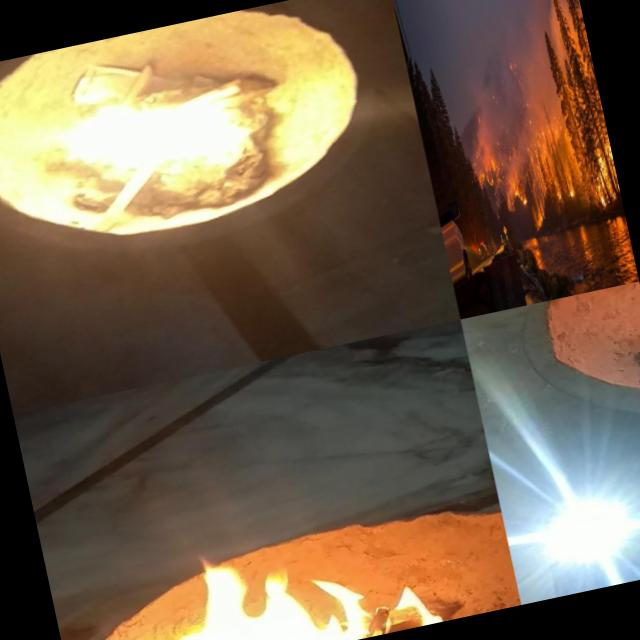fire: (113, 488, 457, 640), (12, 54, 266, 222), (474, 142, 576, 200), (580, 123, 621, 203), (505, 188, 549, 238), (555, 180, 578, 207)
smoke: (445, 3, 563, 158), (526, 0, 591, 67)
